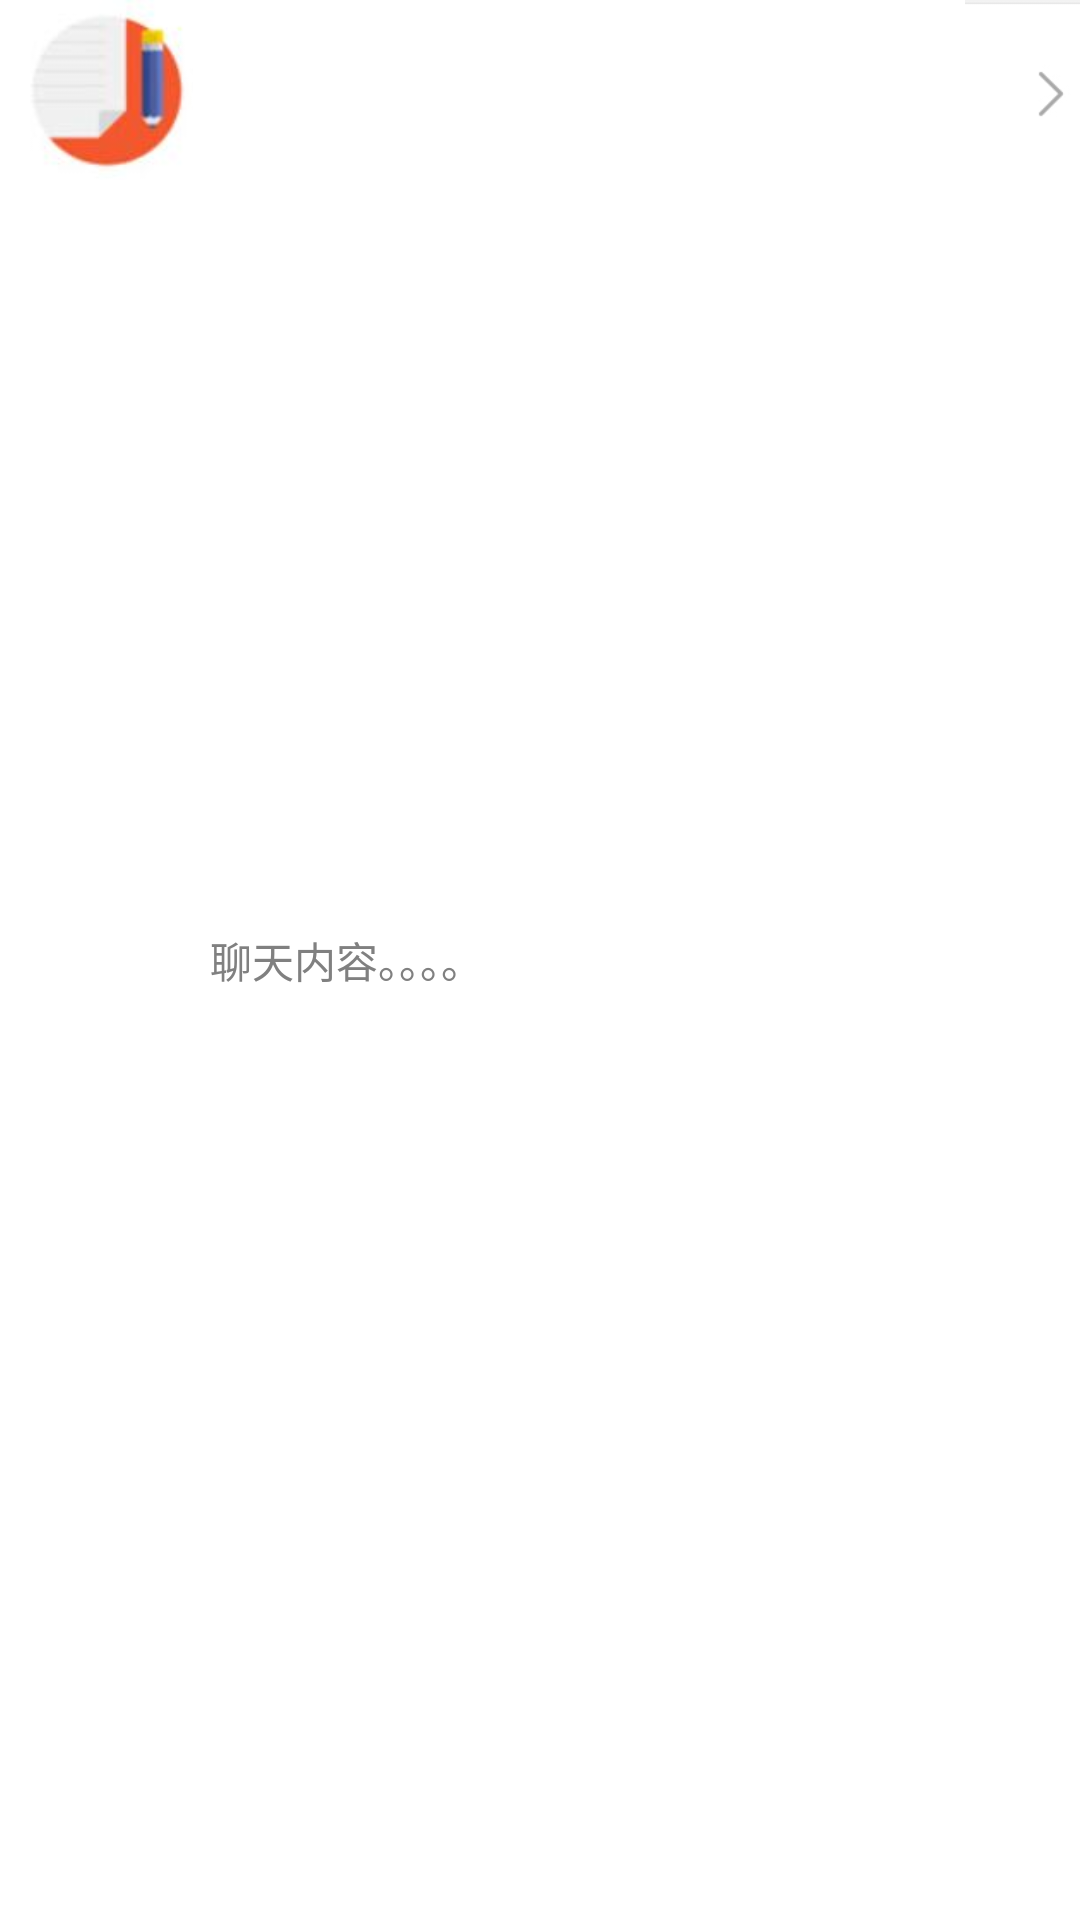

Locate icon controls on the screen. Image size 1080w x 1920h, boxes as {"x1": x1, "y1": y1, "x2": x2, "y2": y2}.
kaoyan: {"x1": 32, "y1": 0, "x2": 185, "y2": 172}
